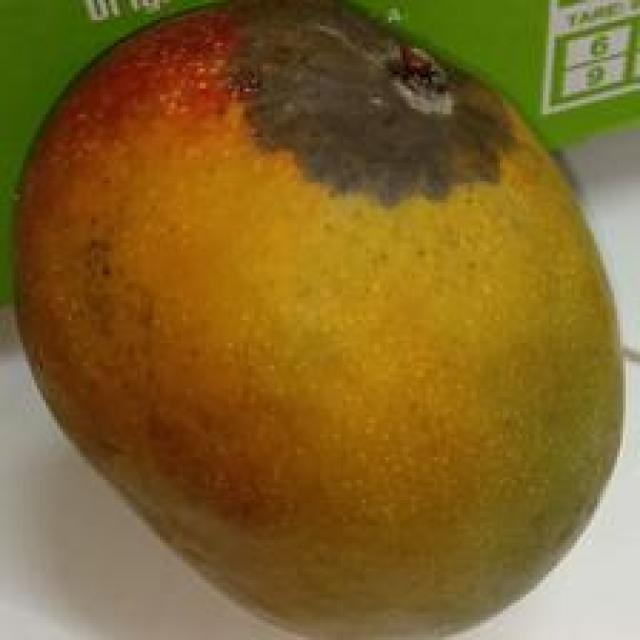Bad_Mango: (19, 0, 620, 637)
